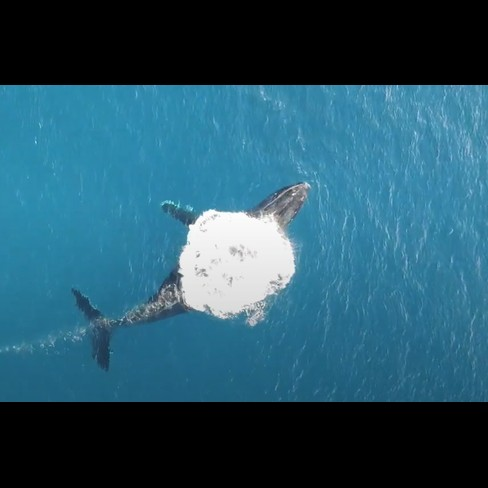hump: (64, 175, 313, 376)
